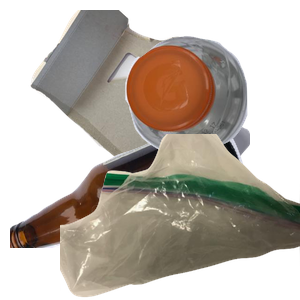glass: (10, 120, 247, 300)
paper: (28, 10, 268, 190)
plastic: (123, 33, 300, 181)
trash: (60, 134, 300, 300)
